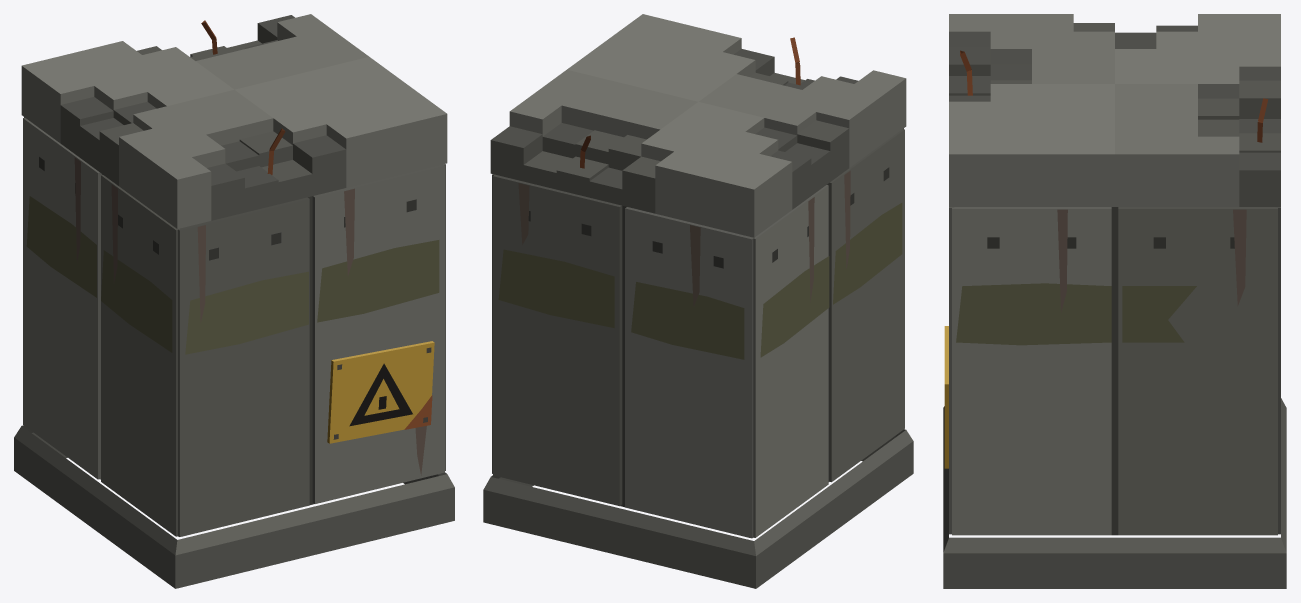
Rendered from parede_concreto_3.glb.
3 renders of one model, left to right at view 1: azimuth 30°, elevation 25°; view 2: azimuth 150°, elevation 25°; view 3: azimuth 270°, elevation 25°, orthographic. The views are drawn at different scales.
Visible parts, largest first — view 1: parede_concreto_3.001; view 2: parede_concreto_3.001; view 3: parede_concreto_3.001.
Part boxes in pixels (box(x1,y1,x2,y2)): parede_concreto_3.001: box(14, 14, 454, 588); parede_concreto_3.001: box(483, 14, 913, 588); parede_concreto_3.001: box(943, 14, 1286, 588).
Bounding box in the file's own units: 1.66 × 2.41 × 1.66.
